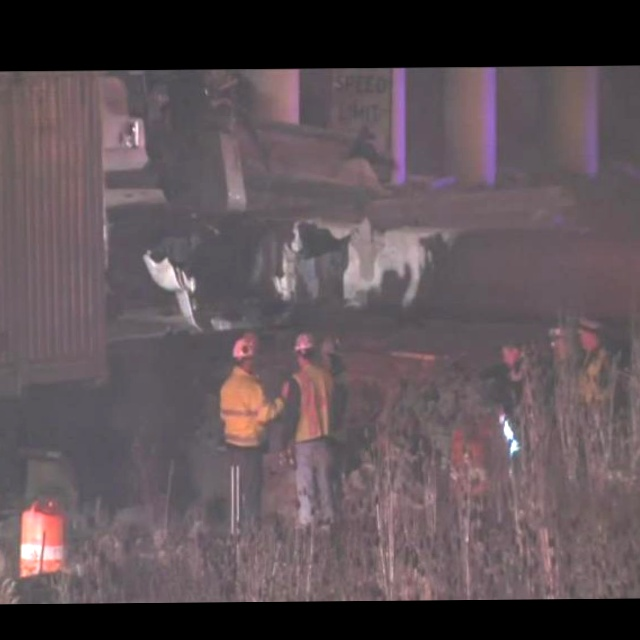Con_Chaleco: (220, 371, 270, 449)
